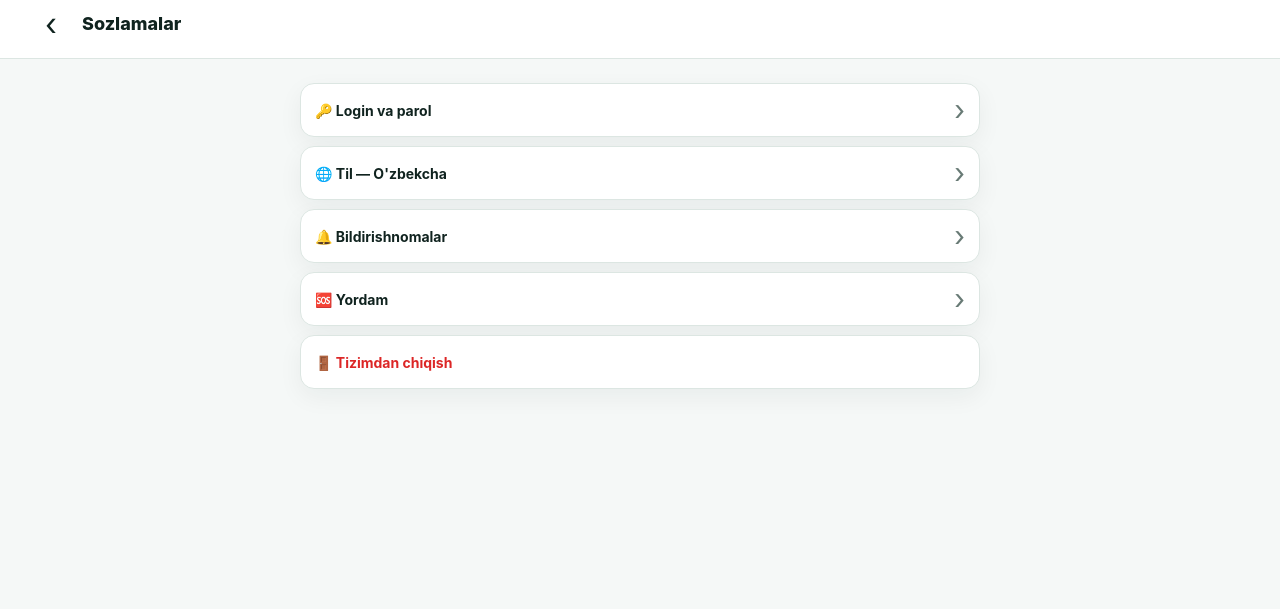
it: AccountSettings › loads and safely updates the business login and password
Click the button "🔑 Login va parol": coordinates (373, 110) [300, 83, 980, 137]
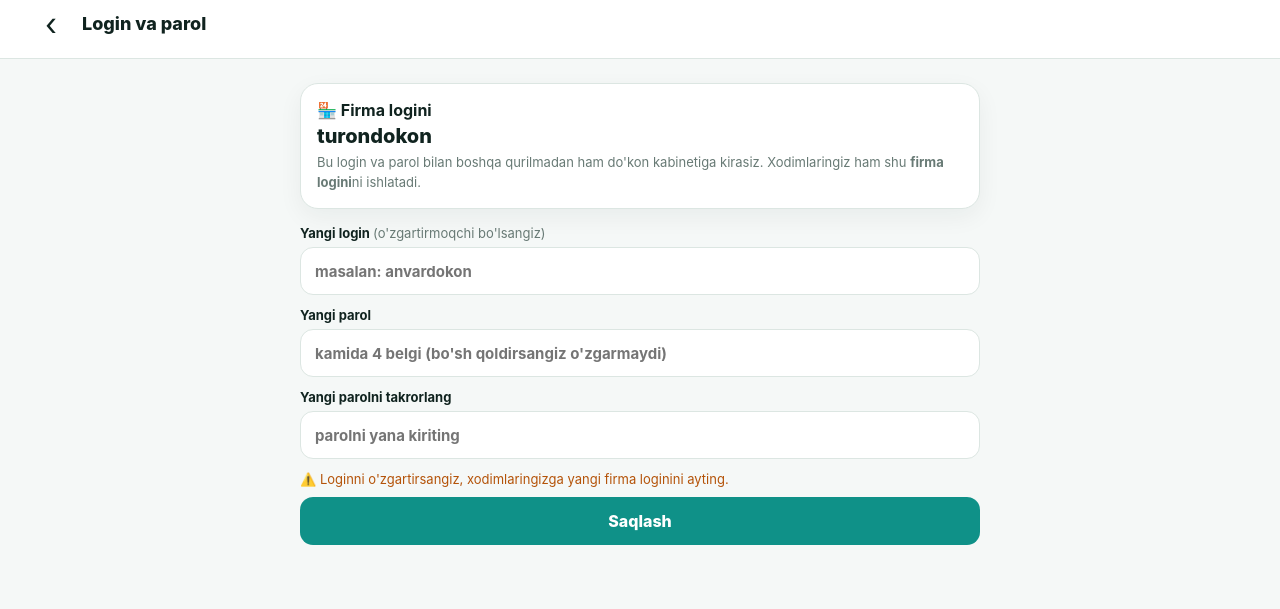
Result: the text "turondokon" is shown at [317, 124, 432, 148]
In the field labelled "Yangi login (o'zgartirmoqchi bo'lsangiz)": coordinates (640, 271) [300, 247, 980, 295], type "Yangi-Login"
In the password field labelled "Yangi parol": coordinates (640, 353) [300, 329, 980, 377], type "parol123"
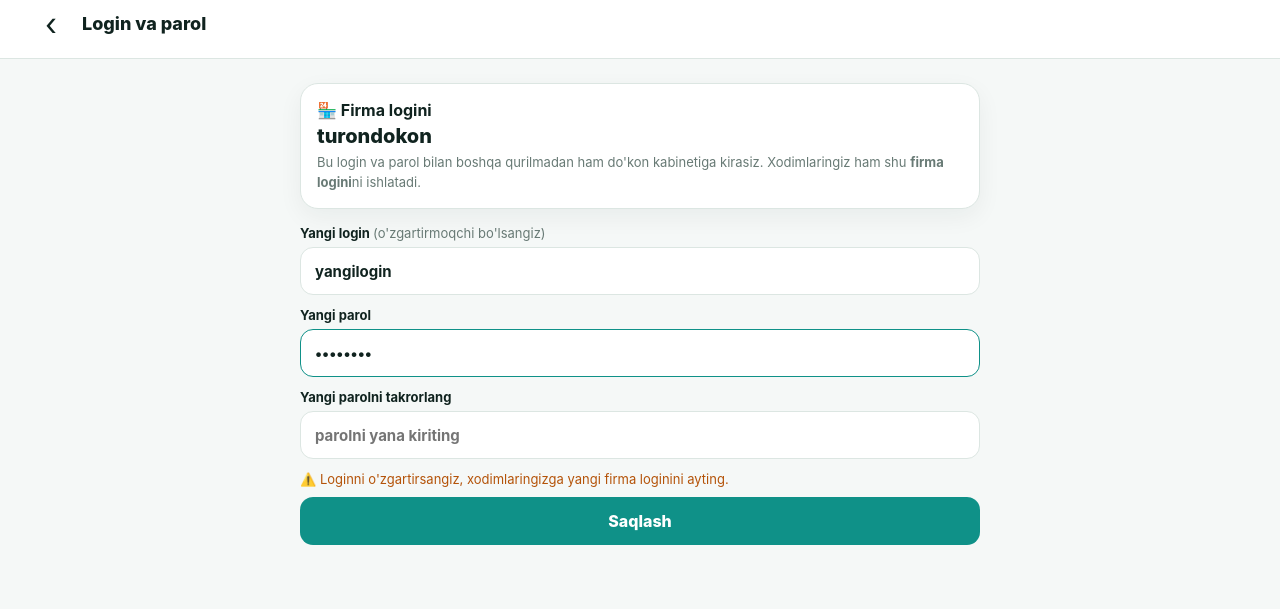
In the password field labelled "Yangi parolni takrorlang": coordinates (640, 435) [300, 411, 980, 459], type "boshqa"
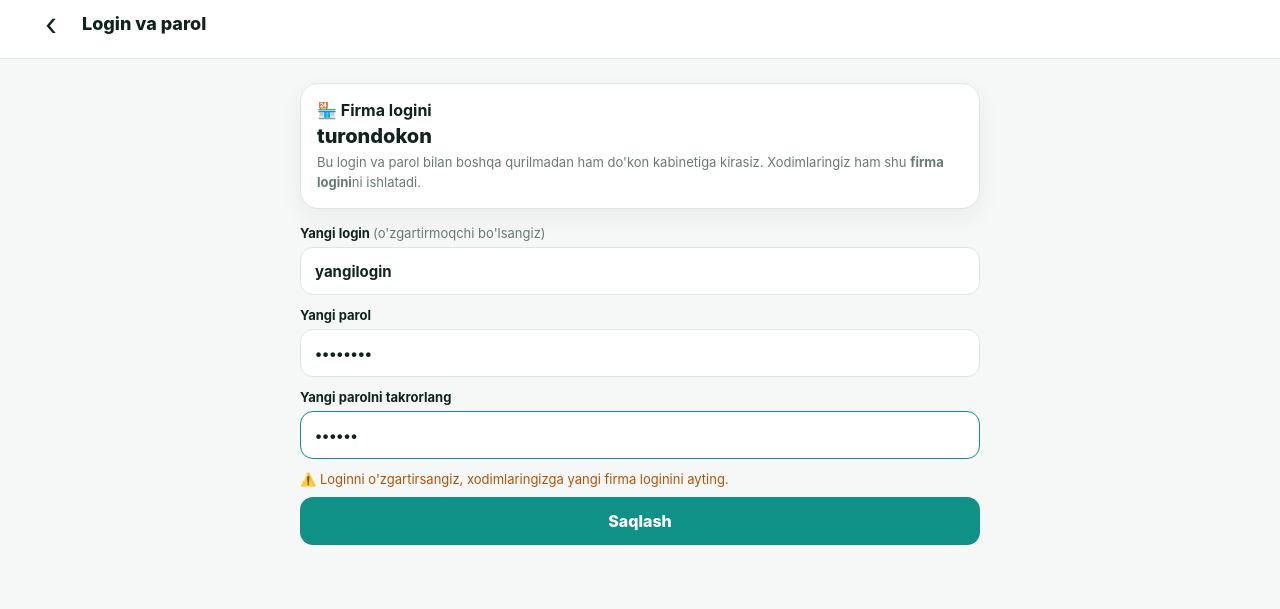
Click the button "Saqlash": coordinates (640, 521) [300, 497, 980, 545]
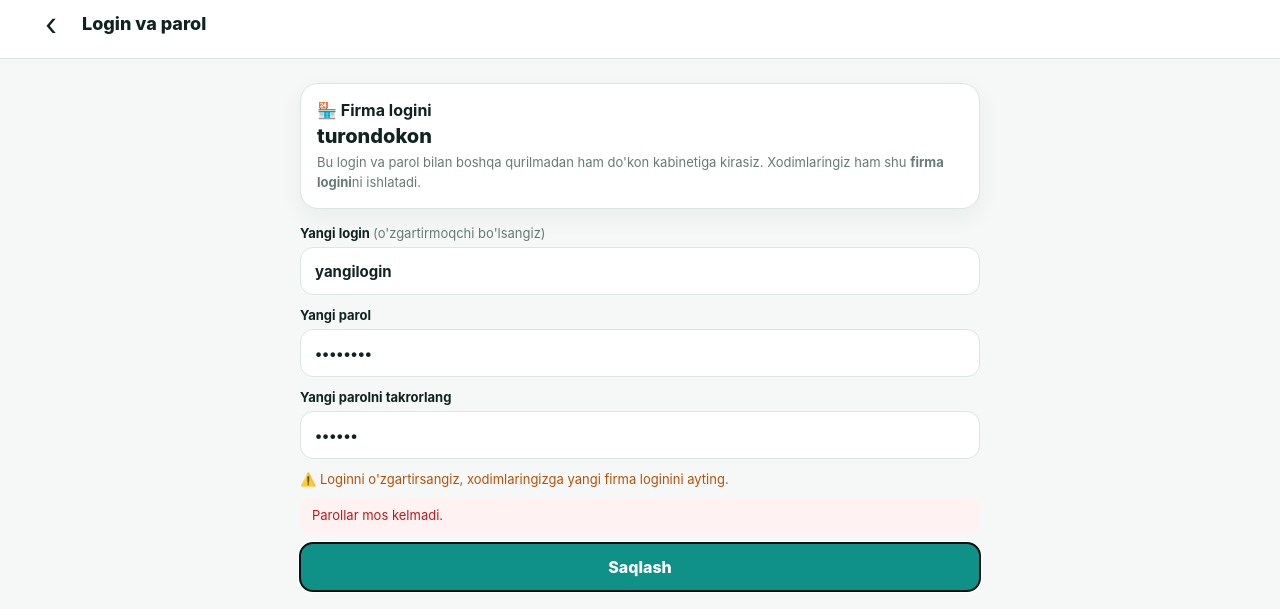
Result: the message reads "Parollar mos kelmadi." at [312, 507, 443, 523]
In the password field labelled "Yangi parolni takrorlang": coordinates (640, 435) [300, 411, 980, 459], type "parol123"
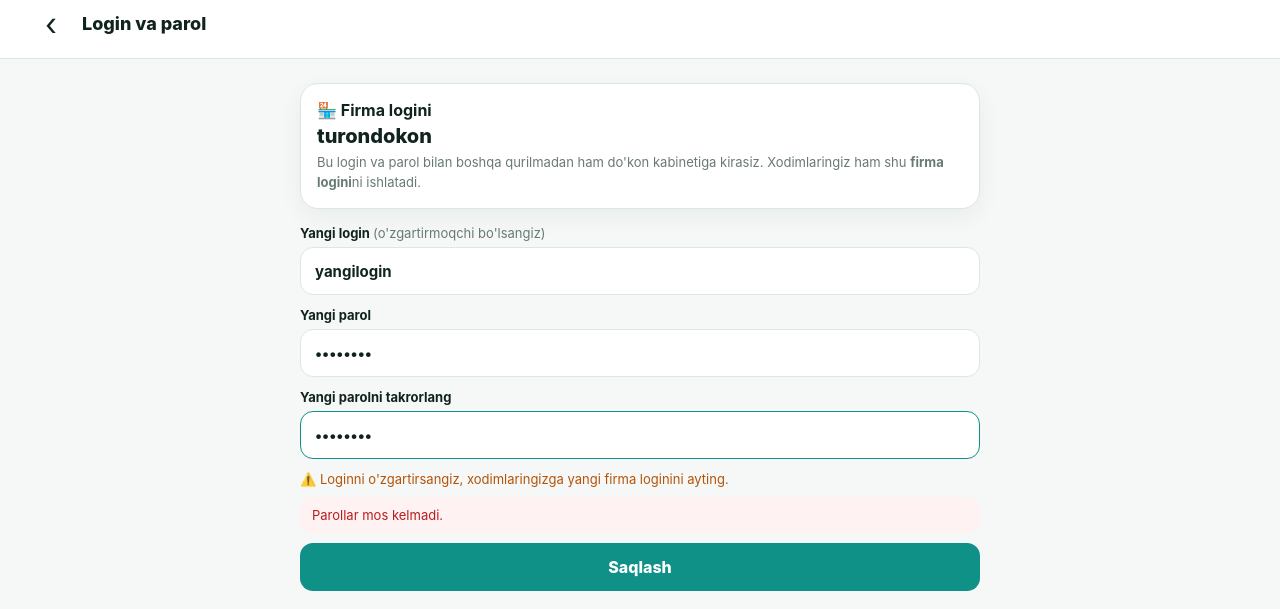
Click the button "Saqlash": coordinates (640, 567) [300, 543, 980, 591]
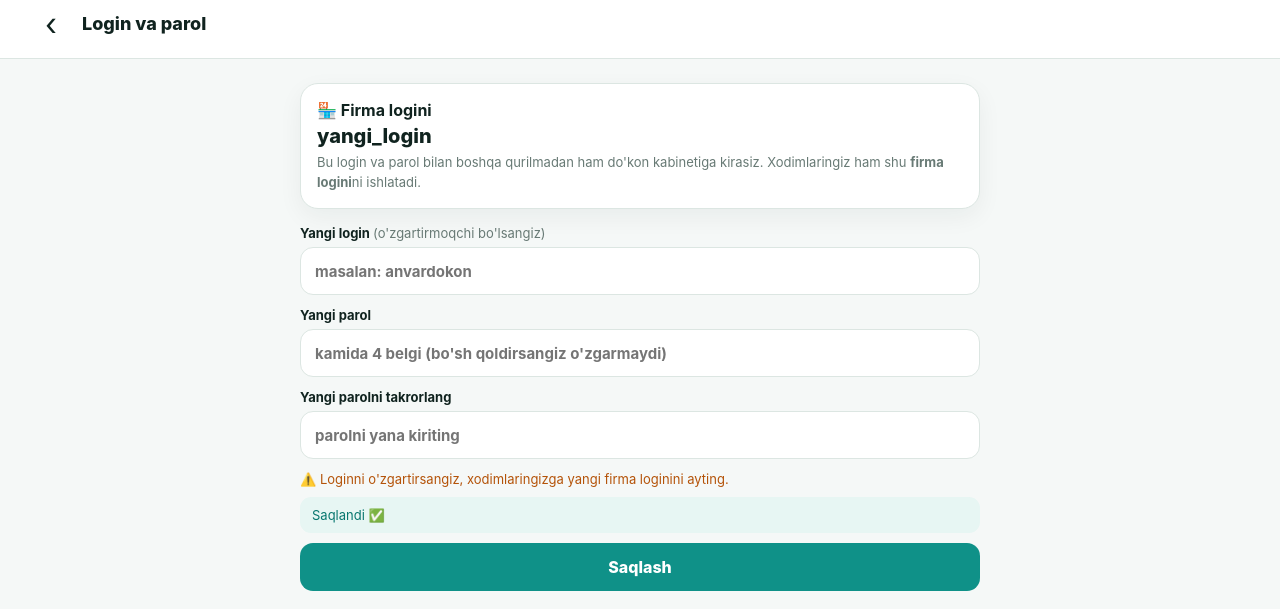
Result: the message reads "Saqlandi ✅" at [312, 507, 385, 523]
Result: the text "yangi_login" is shown at [317, 124, 432, 148]
